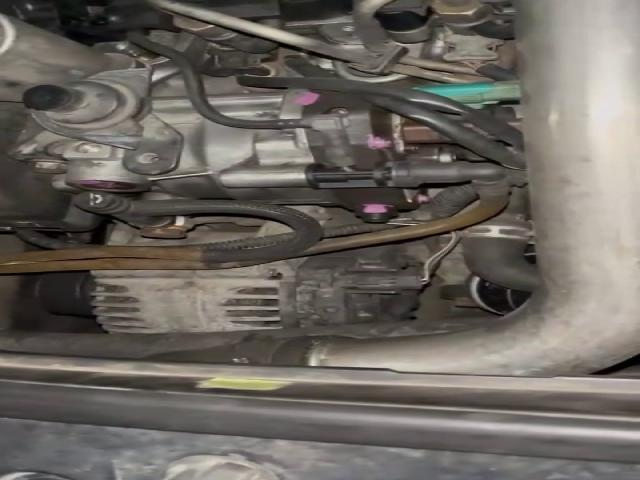alternator: (90, 241, 433, 333)
high_pressure_pump: (65, 82, 461, 222)
